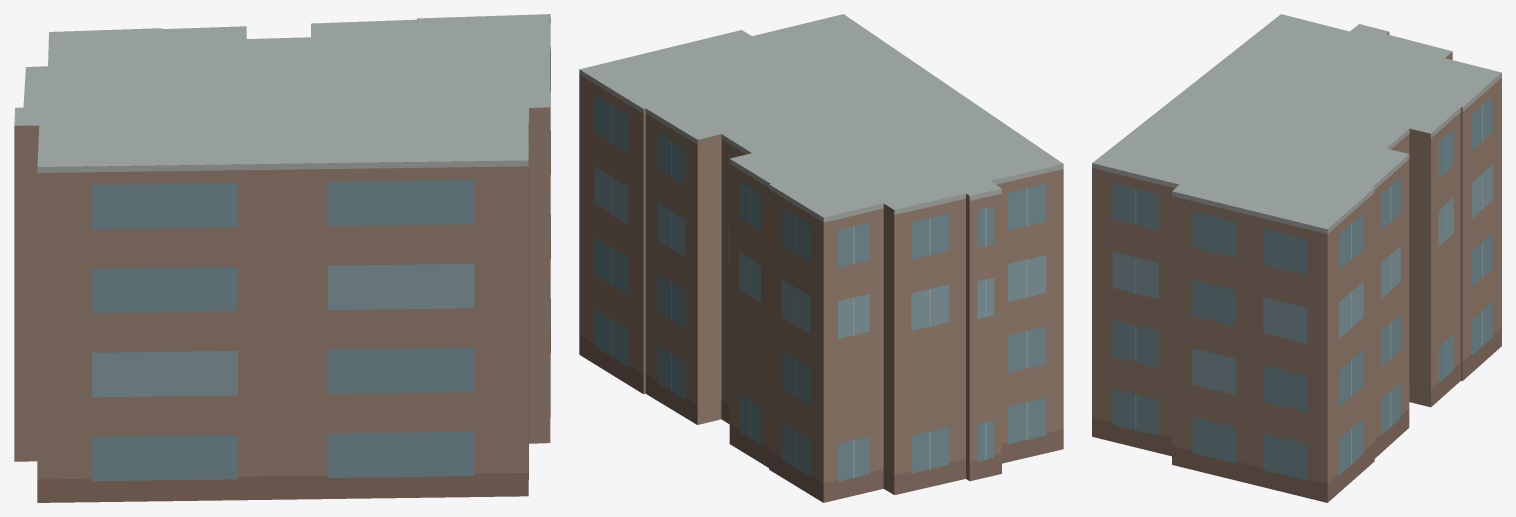
Rendered from survey-upis-32964775.glb.
The picture shows the model from 3 angles, left to right: view 1: azimuth 30°, elevation 25°; view 2: azimuth 150°, elevation 25°; view 3: azimuth 270°, elevation 25°; orthographic projection. The views are drawn at different scales.
Visible parts, largest first — view 1: survey-upis-32964775.tmp; view 2: survey-upis-32964775.tmp; view 3: survey-upis-32964775.tmp.
Part boxes in pixels (<box>): survey-upis-32964775.tmp: <box>14,14,550,502</box>; survey-upis-32964775.tmp: <box>579,14,1063,502</box>; survey-upis-32964775.tmp: <box>1092,14,1501,502</box>.
Bounding box in the file's own units: 23.29 × 13.79 × 18.73.
